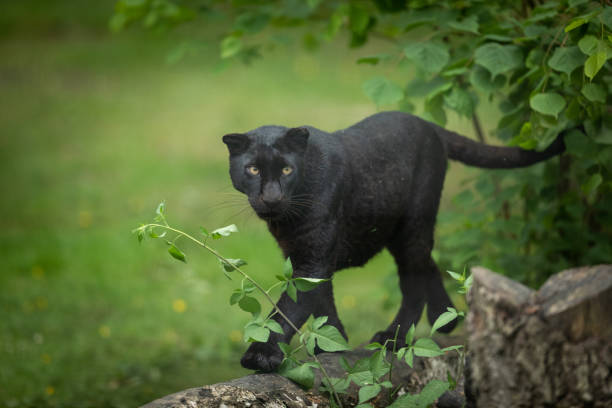panther: (208, 123, 321, 226)
